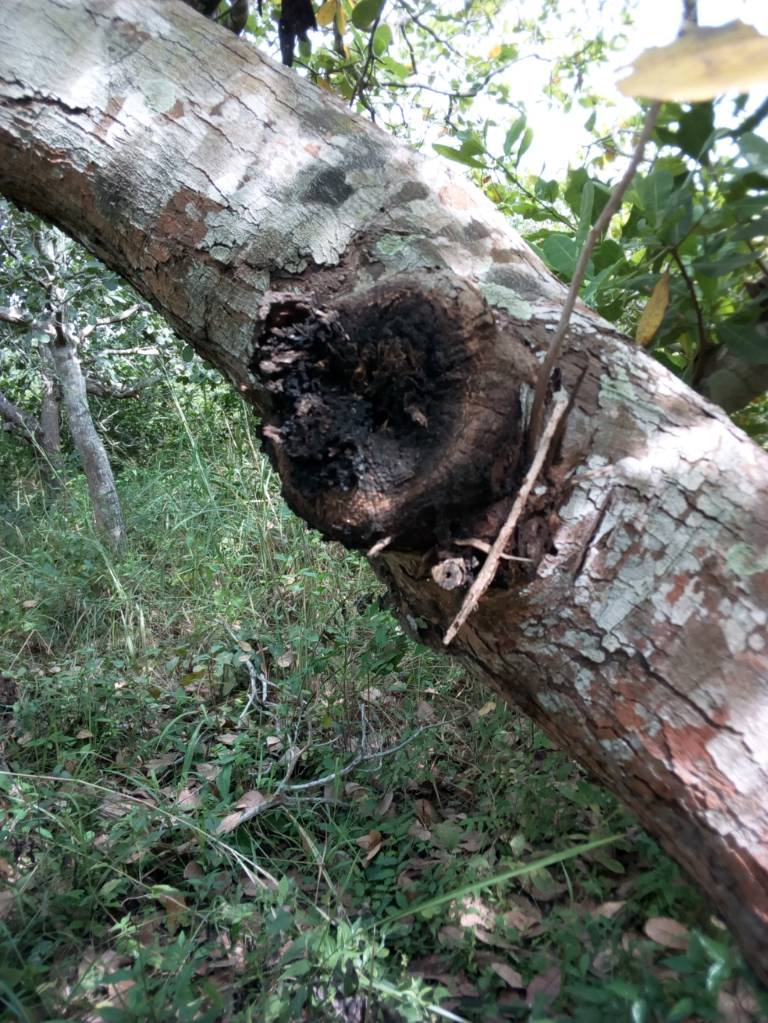ploceadorus ferrugineus: (273, 269, 531, 585)
